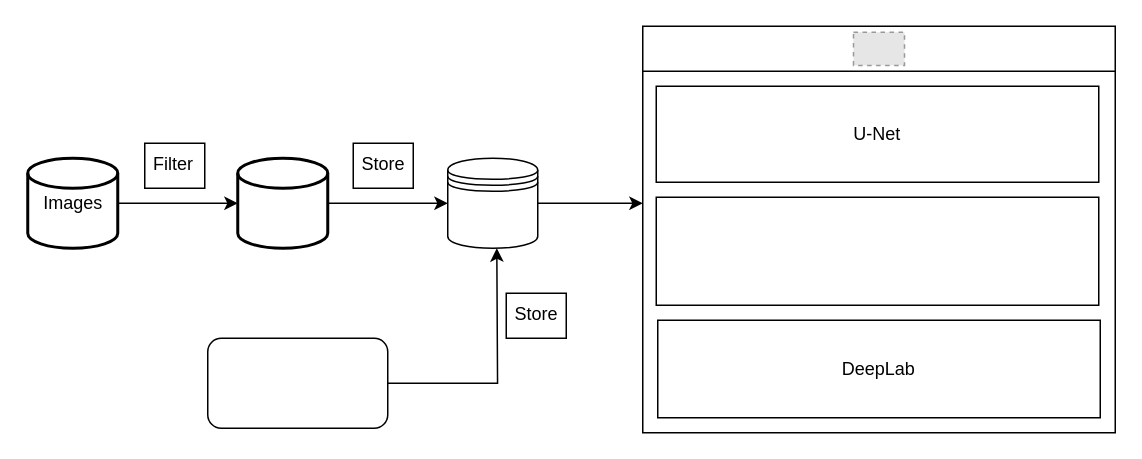
The diagram is 1142 pixels wide and 459 high, and some of its shapes have lost their labels. Grey dashed boxes stand in for pictures. Each missing label, with the centre of its shape:
"AOS" belongs at (x=297, y=382).
"Cleaned Images" belongs at (x=282, y=202).
"Vision Transformers" belongs at (x=877, y=250).
